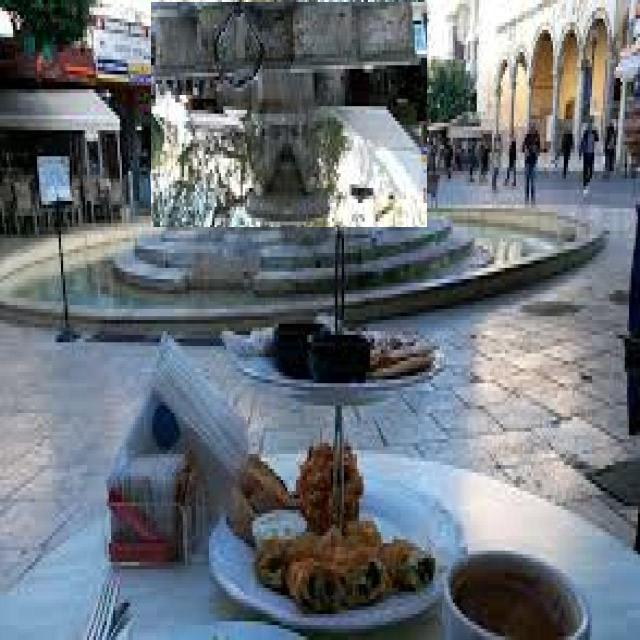Liontaria: (152, 3, 428, 228)
